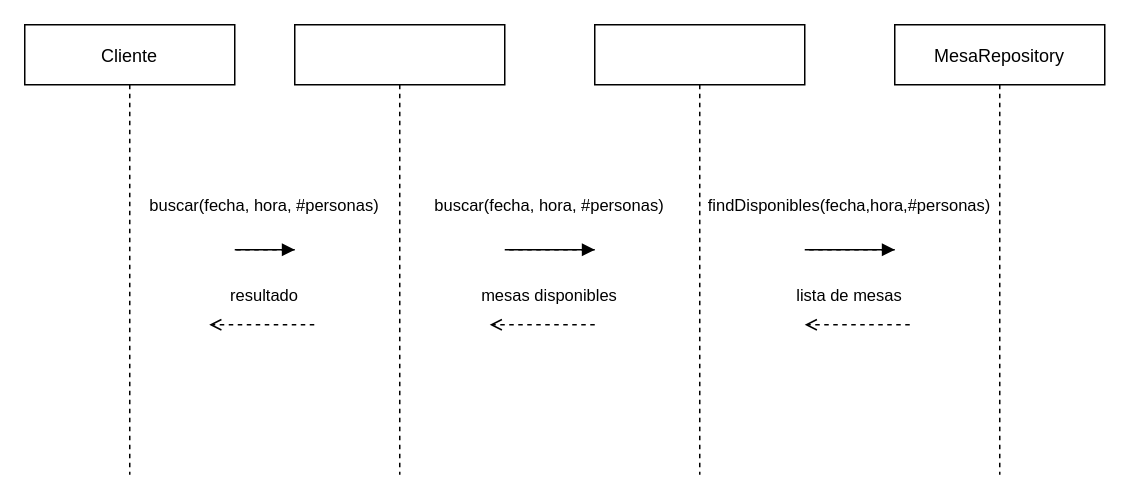
The diagram is 1130 pixels wide and 500 high, and some of its shapes have lost their labels. The shapes that lost their labels are listed below. From the top down, each one's box as (x1, y1, x2, y2) in pixels, then its label:
(293, 23, 505, 475): DisponibilidadController
(593, 23, 805, 475): DisponibilidadService
